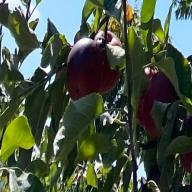Apples: (143, 70, 185, 135), (67, 38, 103, 100), (94, 31, 122, 93), (136, 67, 157, 120), (180, 114, 192, 171)
